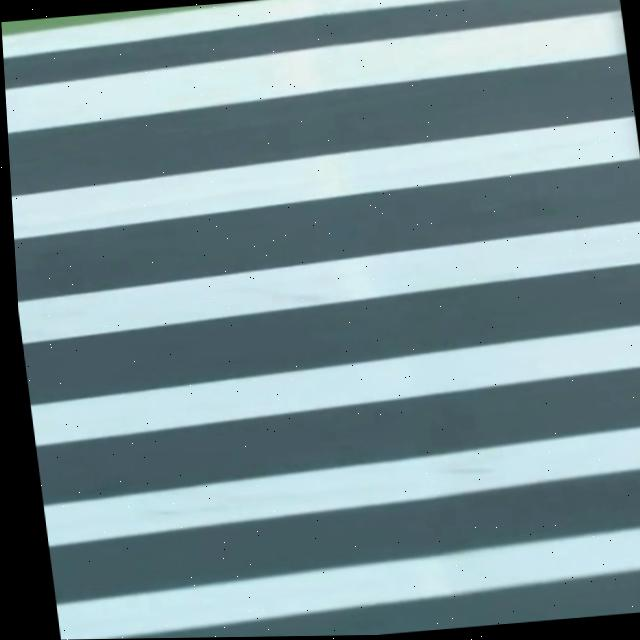right: (2, 0, 462, 58)
